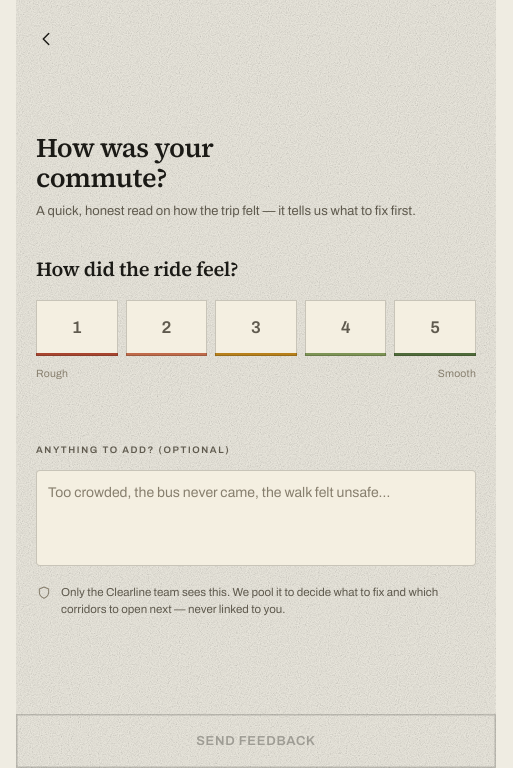
15 Feedback › disables Send until a rating is chosen, then shows 'N · word'
Check: the button "Send feedback" is disabled, box 16,714 -> 496,767
Click the button named "Rate 4 out of 5 — Good" at (346,328), box 305,300 -> 386,356
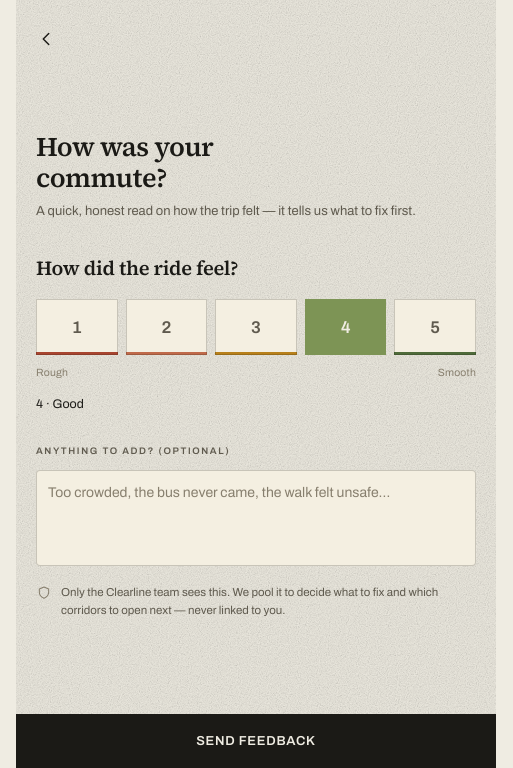
Check: the text "4 · Good" is shown, box 36,397 -> 84,411
Check: the button "Send feedback" is enabled, box 16,714 -> 496,767
